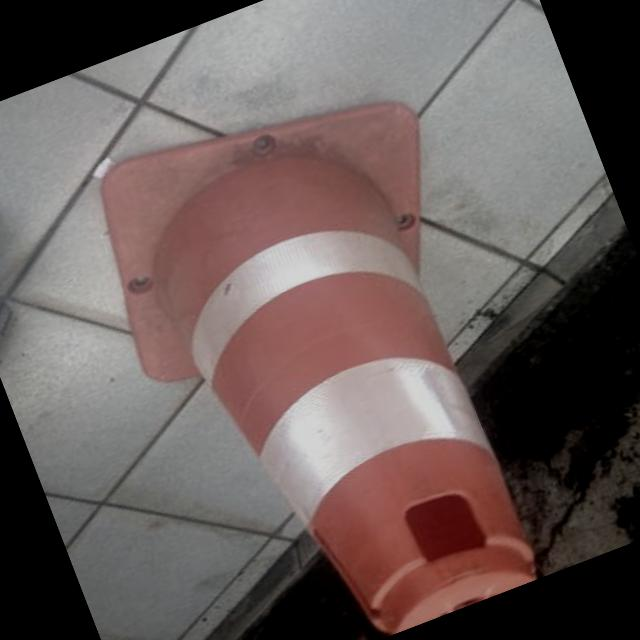cone: (83, 54, 612, 640)
